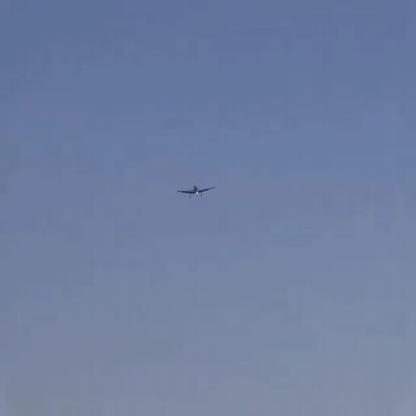CIV_Plane: (176, 182, 217, 198)
